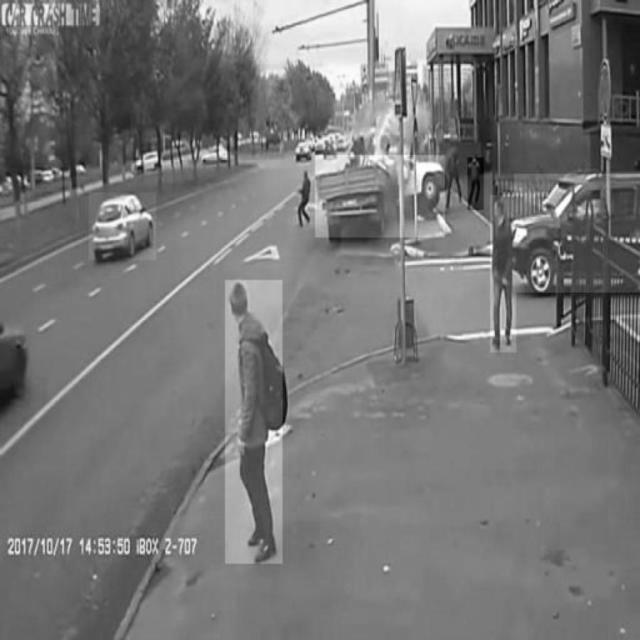accident: (316, 155, 446, 237)
person: (226, 280, 283, 564), (491, 196, 517, 353), (468, 158, 484, 210)
vehicle: (514, 174, 640, 292), (89, 193, 156, 260)
